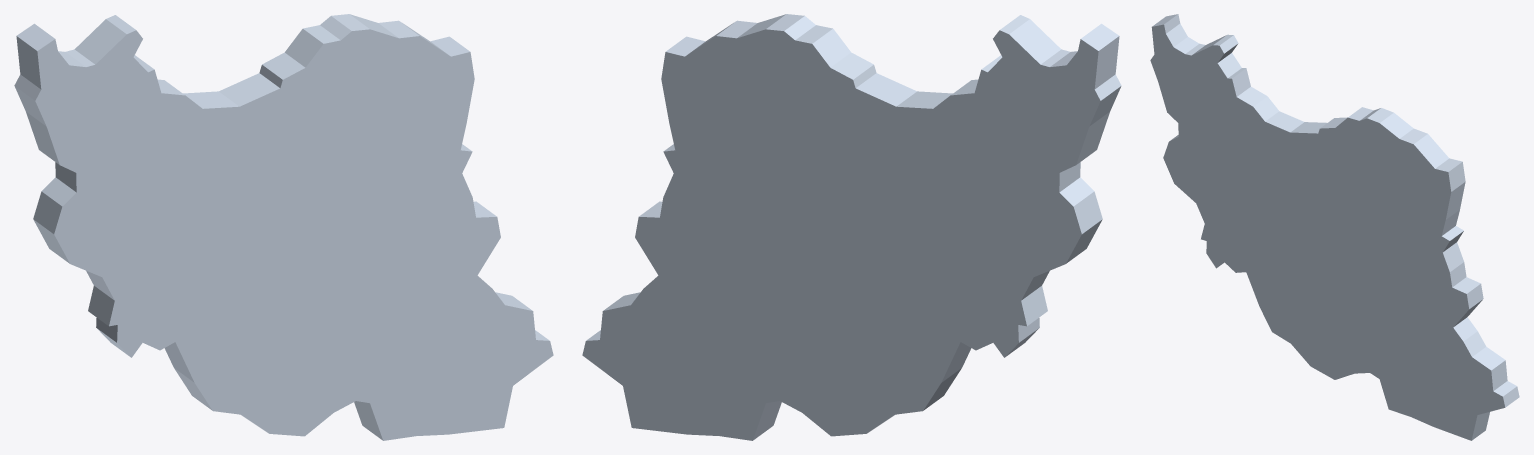
The model's file is iran-polygon-thick.glb.
3 renders of one model, left to right at view 1: azimuth 30°, elevation 25°; view 2: azimuth 150°, elevation 25°; view 3: azimuth 330°, elevation 25°, orthographic. The views are drawn at different scales.
Parts seen in each view (by area): view 1: iran_polygon; view 2: iran_polygon; view 3: iran_polygon.
Boxes of the visible parts, x1,y1,x2,y2 form: iran_polygon: [14, 14, 553, 440]; iran_polygon: [582, 14, 1121, 440]; iran_polygon: [1150, 14, 1519, 440].
Size of the model in its own units: 4 by 3.68 by 0.28.
